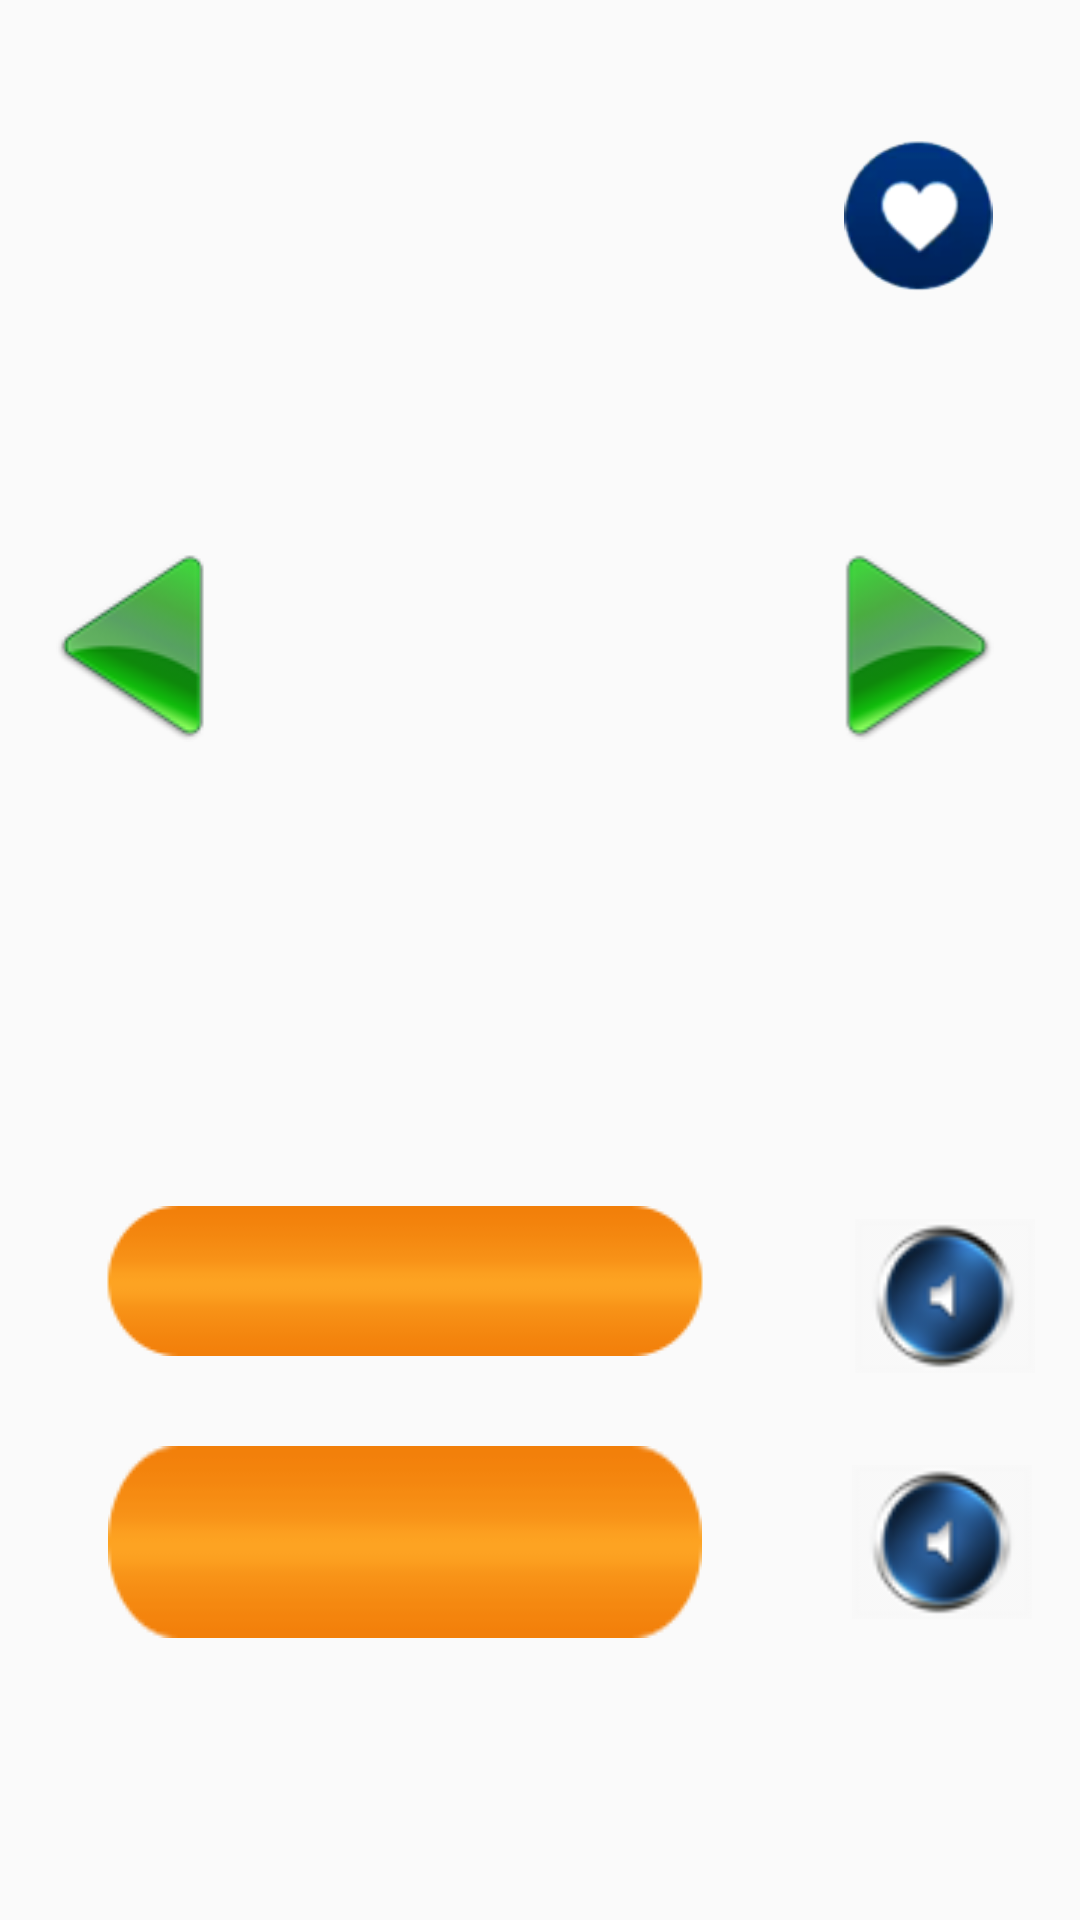

Icon click points for this 1080×1920 phone screenshot, format [x,y]:
favourite: [918,215]
left: [132,646]
right: [917,646]
speaker: [945,1296], [942,1542]
